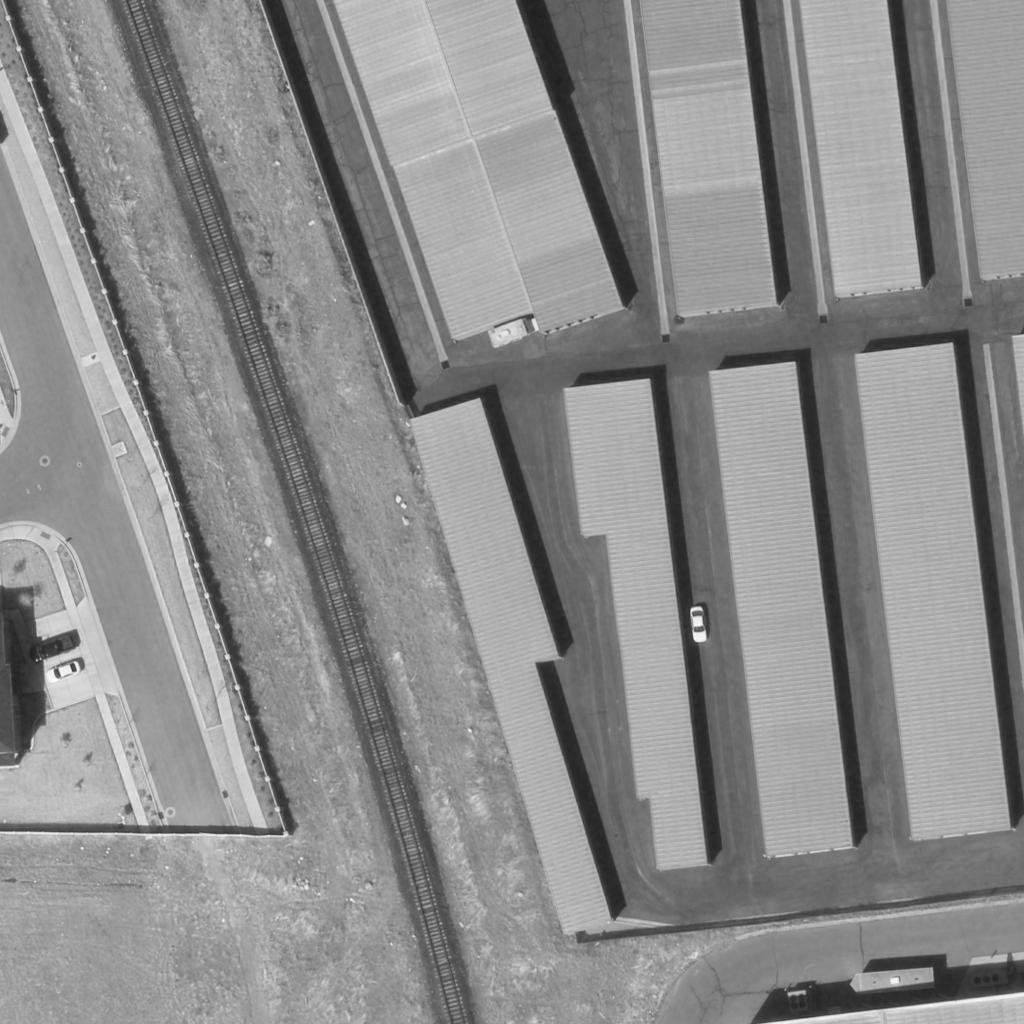vehicle: (28, 636, 76, 664), (488, 319, 532, 349), (44, 661, 84, 685), (689, 606, 707, 642)
